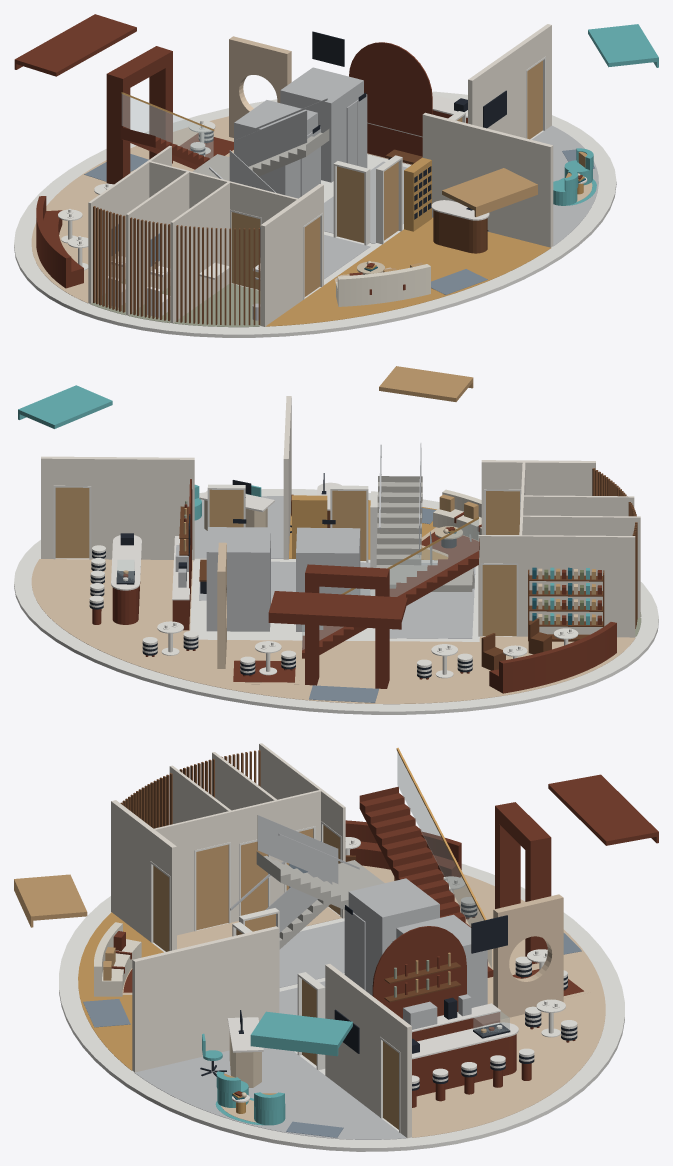
3 views of the same model, one above another, from view 1: azimuth 30°, elevation 25°; view 2: azimuth 150°, elevation 25°; view 3: azimuth 270°, elevation 25° (orthographic). The views are drawn at different scales.
Parts seen in each view (by area): view 1: Generic models, Walls, Floors, Furniture, Specialty equipment, Doors, Railings, Stairs, Casework, Plumbing fixtures; view 2: Floors, Walls, Furniture, Generic models, Doors, Specialty equipment, Stairs, Railings, Casework; view 3: Floors, Walls, Generic models, Furniture, Doors, Specialty equipment, Stairs, Railings, Casework.
Part boxes in pixels (left/top/right/bottom): Generic models: left=14, top=14, right=658, bottom=325; Walls: left=88, top=24, right=553, bottom=326; Floors: left=14, top=91, right=616, bottom=337; Furniture: left=36, top=120, right=596, bottom=320; Specialty equipment: left=199, top=67, right=506, bottom=279; Doors: left=154, top=56, right=545, bottom=299; Railings: left=121, top=92, right=327, bottom=192; Stairs: left=120, top=127, right=329, bottom=180; Casework: left=367, top=94, right=467, bottom=164; Plumbing fixtures: left=108, top=256, right=260, bottom=317; Floors: left=14, top=489, right=658, bottom=714; Walls: left=41, top=396, right=640, bottom=637; Furniture: left=89, top=482, right=616, bottom=702; Generic models: left=18, top=366, right=637, bottom=688; Doors: left=53, top=484, right=521, bottom=636; Specialty equipment: left=120, top=473, right=360, bottom=631; Stairs: left=302, top=476, right=479, bottom=658; Railings: left=302, top=443, right=478, bottom=649; Casework: left=111, top=506, right=191, bottom=630; Floors: left=59, top=863, right=624, bottom=1151; Walls: left=111, top=743, right=411, bottom=1138; Generic models: left=14, top=750, right=658, bottom=1056; Furniture: left=83, top=820, right=590, bottom=1137; Doors: left=150, top=821, right=400, bottom=1132; Specialty equipment: left=238, top=878, right=487, bottom=1053; Stairs: left=256, top=786, right=493, bottom=977; Railings: left=230, top=747, right=491, bottom=968; Casework: left=384, top=962, right=518, bottom=1096.
Bounding box in the file's own units: 18.77 × 4.33 × 15.73.
